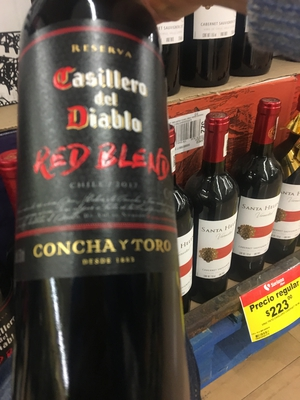casillero del diablo red blend: (20, 25, 195, 400)
